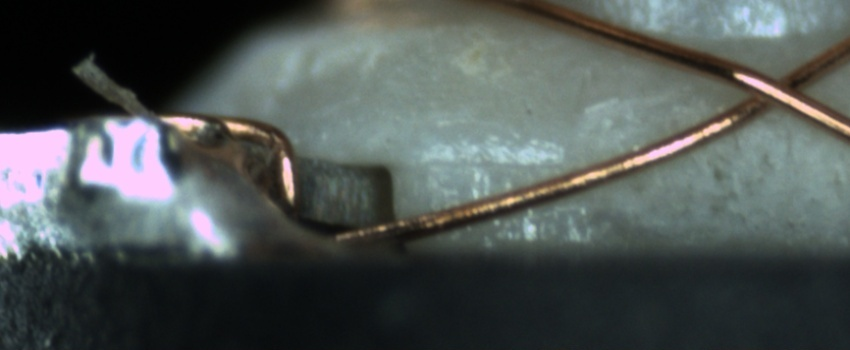CL: (719, 53, 830, 125)
DL: (420, 133, 584, 197)
TE: (156, 108, 315, 229)
